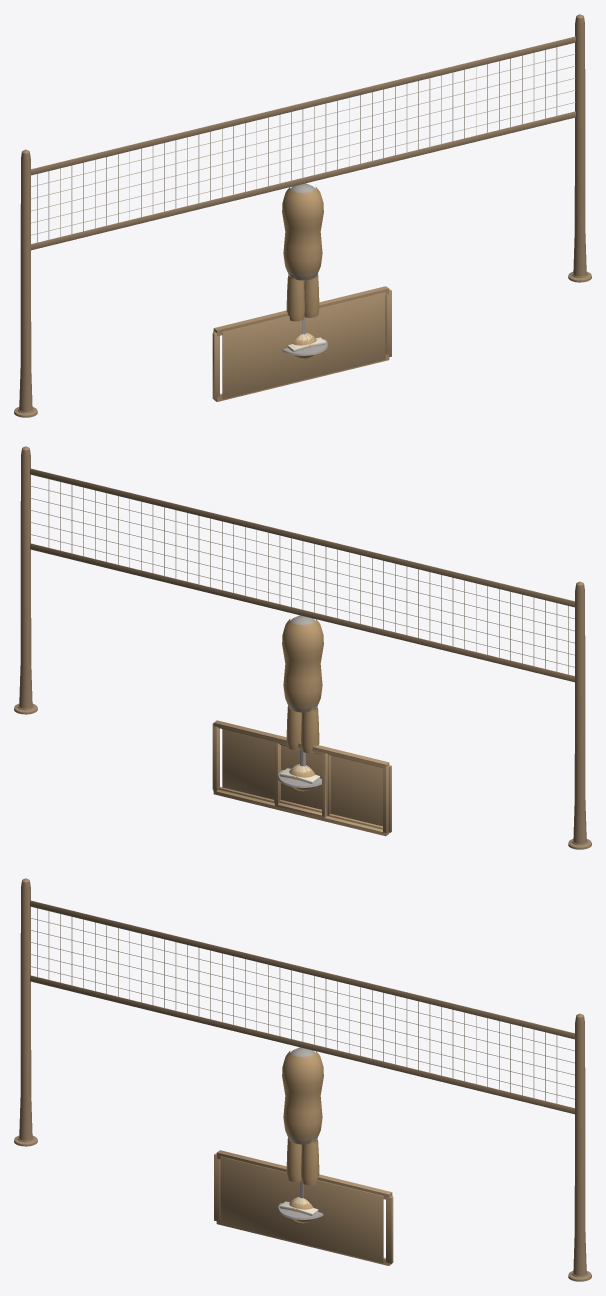
The model's file is exhibits-holyoke.73ea28b9.glb.
3 views of the same model, one above another, from view 1: azimuth 30°, elevation 25°; view 2: azimuth 150°, elevation 25°; view 3: azimuth 330°, elevation 25° (orthographic).
Parts seen in each view (by area): view 1: net/ymca-1897__structure, frame/panorama-wide, net/ymca-1897__cords, apparel/gym-suit-1900__garment, apparel/gym-suit-1900__form; view 2: net/ymca-1897__structure, frame/panorama-wide, net/ymca-1897__cords, apparel/gym-suit-1900__garment, frame/portrait-small, apparel/gym-suit-1900__form; view 3: net/ymca-1897__structure, frame/panorama-wide, net/ymca-1897__cords, apparel/gym-suit-1900__garment, apparel/gym-suit-1900__form.
Boxes of the visible parts, left/top/right/bottom form: net/ymca-1897__structure: left=14, top=14, right=591, bottom=417; frame/panorama-wide: left=212, top=286, right=391, bottom=401; net/ymca-1897__cords: left=31, top=47, right=575, bottom=242; apparel/gym-suit-1900__garment: left=282, top=187, right=323, bottom=321; apparel/gym-suit-1900__form: left=282, top=183, right=328, bottom=355; net/ymca-1897__structure: left=14, top=446, right=591, bottom=849; frame/panorama-wide: left=212, top=720, right=391, bottom=836; net/ymca-1897__cords: left=30, top=479, right=574, bottom=674; apparel/gym-suit-1900__garment: left=282, top=619, right=323, bottom=753; frame/portrait-small: left=274, top=741, right=330, bottom=817; apparel/gym-suit-1900__form: left=277, top=615, right=321, bottom=787; net/ymca-1897__structure: left=14, top=878, right=591, bottom=1281; frame/panorama-wide: left=214, top=1150, right=393, bottom=1265; net/ymca-1897__cords: left=30, top=908, right=574, bottom=1103; apparel/gym-suit-1900__garment: left=282, top=1051, right=323, bottom=1185; apparel/gym-suit-1900__form: left=277, top=1047, right=323, bottom=1219.
Size of the model in its own units: 4.98 by 2.48 by 0.3799.
